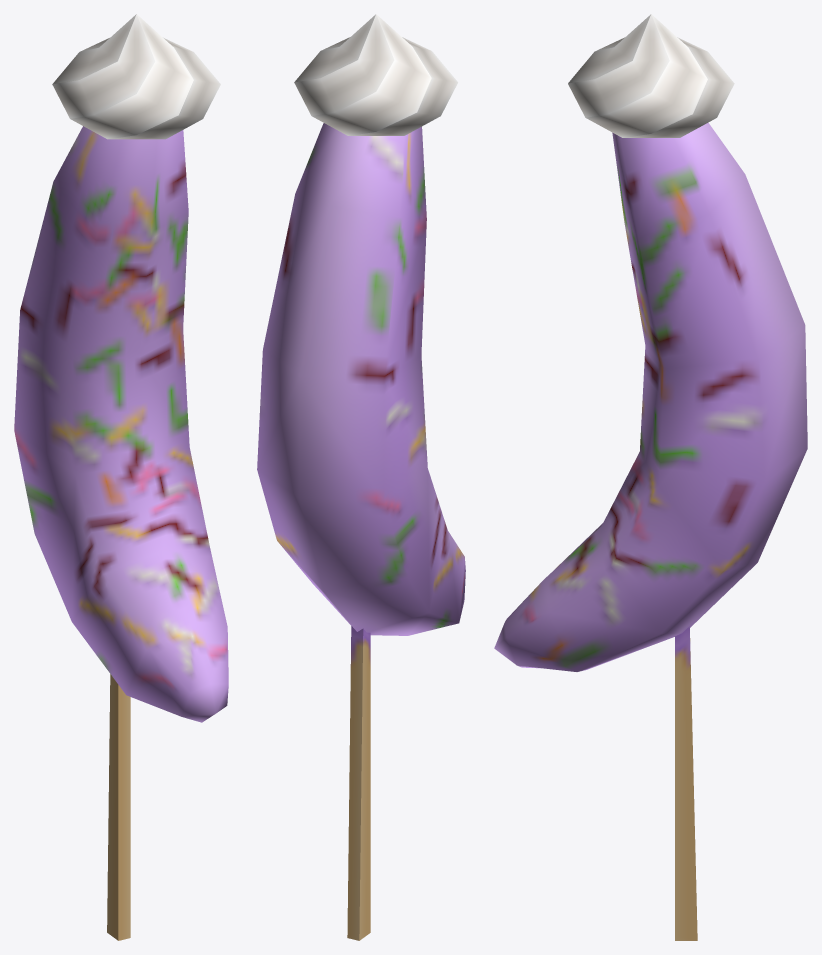
File: jsf_ChocolateBanana_a03_c04.fbx
The picture shows the model from 3 angles, left to right: view 1: azimuth 30°, elevation 25°; view 2: azimuth 150°, elevation 25°; view 3: azimuth 270°, elevation 25°; orthographic projection. The views are drawn at different scales.
Visible parts, largest first — view 1: jsf_ChocolateBanana_a03_c04; view 2: jsf_ChocolateBanana_a03_c04; view 3: jsf_ChocolateBanana_a03_c04.
Part boxes in pixels (x1=…): jsf_ChocolateBanana_a03_c04: x1=14, y1=14, x2=228, y2=940; jsf_ChocolateBanana_a03_c04: x1=257, y1=14, x2=465, y2=940; jsf_ChocolateBanana_a03_c04: x1=494, y1=14, x2=807, y2=940.
Size of the model in its own units: 3.79 by 25.44 by 7.83.
